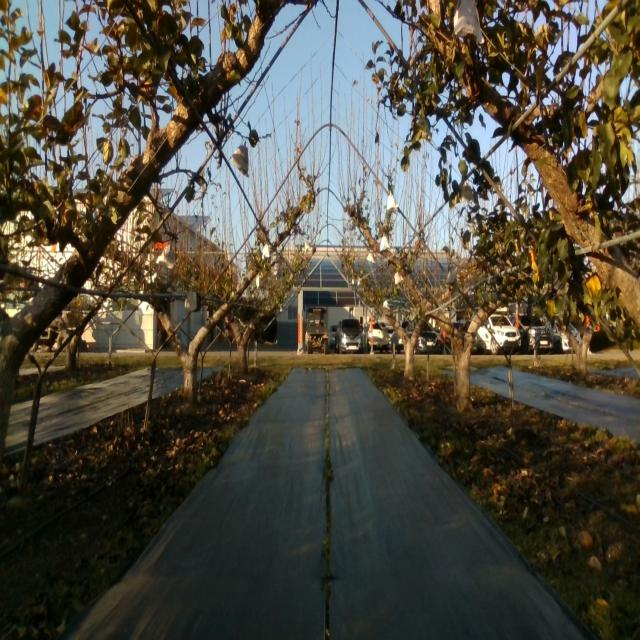pearbags: (451, 0, 483, 42), (231, 140, 249, 177), (156, 244, 175, 270), (456, 180, 475, 204)
